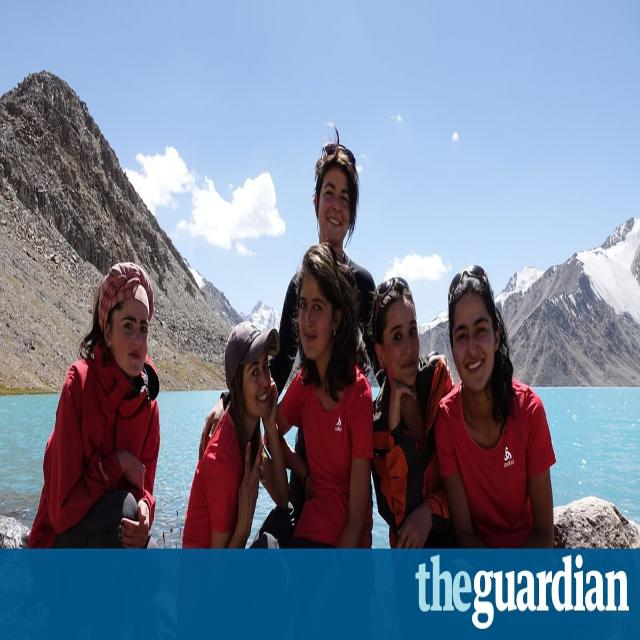body: (249, 125, 385, 551), (26, 259, 161, 550), (433, 264, 558, 550), (274, 240, 372, 550), (181, 319, 290, 550), (370, 274, 455, 550)
